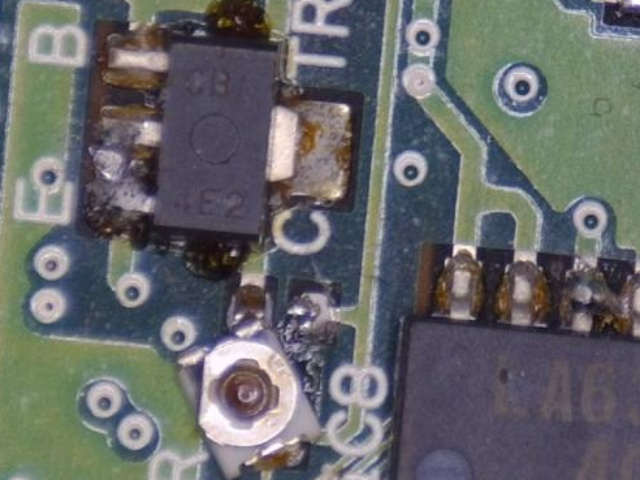pcb_defect: (175, 274, 332, 480), (85, 107, 164, 235), (561, 259, 640, 339)
